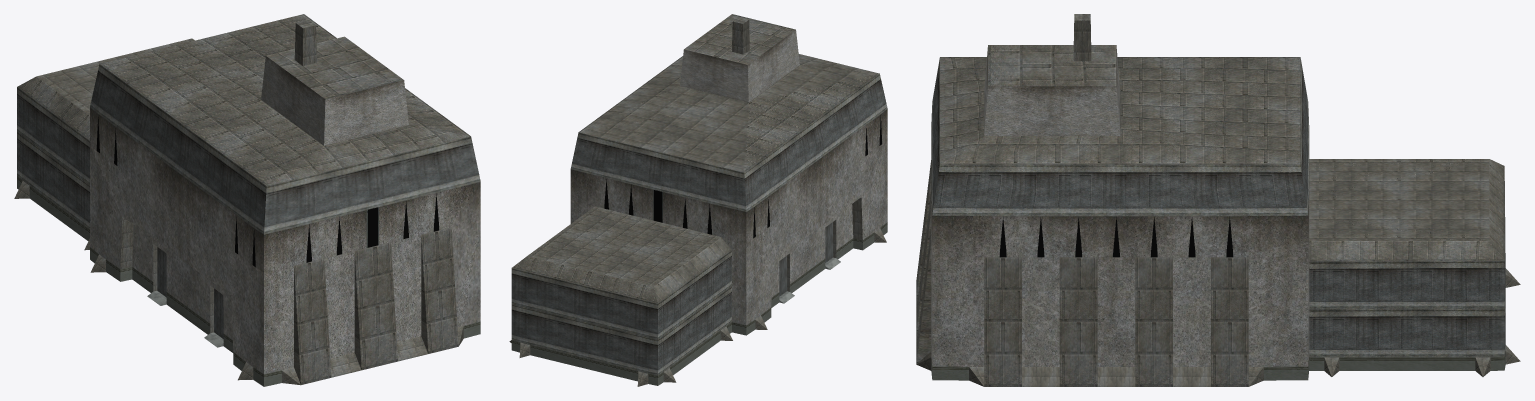
File: thm_corl_imprv_slum_16x32_s01_l2.fbx
3 views of the same model, side by side, from view 1: azimuth 30°, elevation 25°; view 2: azimuth 150°, elevation 25°; view 3: azimuth 270°, elevation 25° (orthographic). The views are drawn at different scales.
Visible parts, largest first — view 1: mesh_node; view 2: mesh_node; view 3: mesh_node.
Part boxes in pixels (box(x1,y1,x2,y2)): mesh_node: box(14, 14, 480, 386); mesh_node: box(509, 14, 887, 386); mesh_node: box(916, 14, 1520, 386).
Bounding box in the file's own units: 16 × 17.95 × 32.
